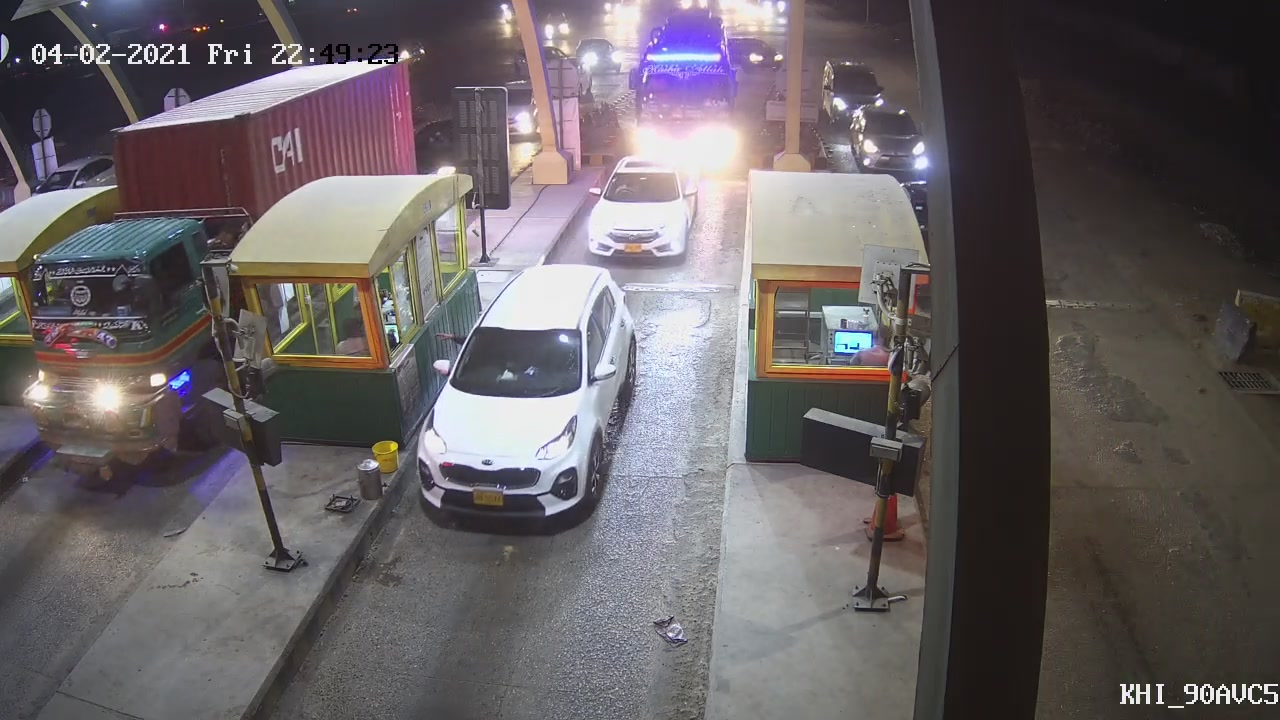F1: (413, 260, 640, 522), (584, 147, 703, 260)
